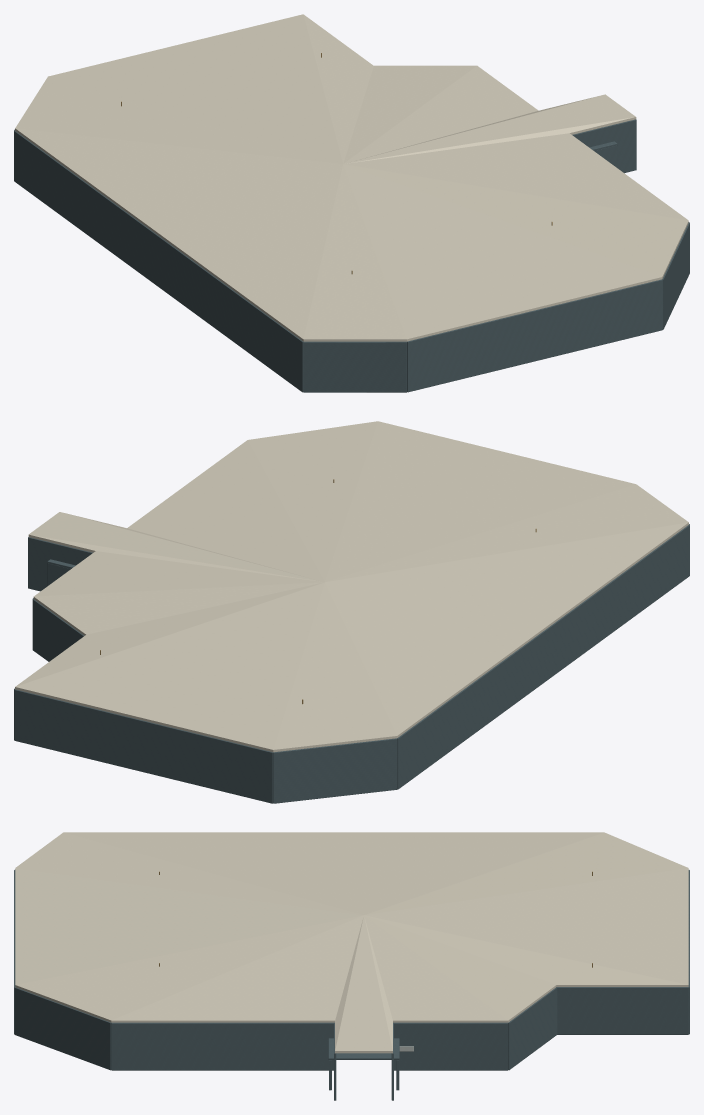
File: SOL_D05_directory_09_source001.glb
The picture shows the model from 3 angles, top to bottom: view 1: azimuth 30°, elevation 25°; view 2: azimuth 150°, elevation 25°; view 3: azimuth 270°, elevation 25°; orthographic projection. The views are drawn at different scales.
Parts seen in each view (by area): view 1: Pod0_Folded_roof_6, Pod0_Folded_roof_8, Pod0_Folded_roof_4, Enclosure_0_6, Enclosure_0_8, Pod0_Folded_roof_10, Pod0_Folded_roof_9, Pod0_Folded_roof_7, Pod0_Folded_roof_5, Pod0_Folded_roof_1, Enclosure_0_7, Pod0_Folded_roof_2 (+5 smaller); view 2: Pod0_Folded_roof_6, Pod0_Folded_roof_4, Pod0_Folded_roof_8, Enclosure_0_6, Enclosure_0_4, Pod0_Folded_roof_10, Pod0_Folded_roof_5, Pod0_Folded_roof_9, Pod0_Folded_roof_7, Enclosure_0_5, Pod0_Folded_roof_1, Pod0_Folded_roof_2 (+5 smaller); view 3: Pod0_Folded_roof_6, Pod0_Folded_roof_8, Pod0_Folded_roof_4, Pod0_Folded_roof_10, Enclosure_0_10, Pod0_Folded_roof_9, Pod0_Folded_roof_5, Pod0_Folded_roof_7, Pod0_Folded_roof_1, Enclosure_0_3, Enclosure_0_1, Pod0_Folded_roof_2 (+7 smaller).
Boxes of the visible parts, x1=… form: Pod0_Folded_roof_6: x1=15, y1=128, x2=342, y2=341; Pod0_Folded_roof_8: x1=343, y1=164, x2=662, y2=341; Pod0_Folded_roof_4: x1=48, y1=14, x2=342, y2=163; Enclosure_0_6: x1=14, y1=131, x2=303, y2=392; Enclosure_0_8: x1=407, y1=279, x2=662, y2=392; Pod0_Folded_roof_10: x1=343, y1=133, x2=687, y2=220; Pod0_Folded_roof_9: x1=344, y1=164, x2=688, y2=278; Pod0_Folded_roof_7: x1=303, y1=164, x2=406, y2=341; Pod0_Folded_roof_5: x1=15, y1=76, x2=341, y2=163; Pod0_Folded_roof_1: x1=344, y1=65, x2=538, y2=163; Enclosure_0_7: x1=303, y1=341, x2=406, y2=392; Pod0_Folded_roof_2: x1=343, y1=65, x2=476, y2=163; Pod0_Folded_roof_6: x1=325, y1=522, x2=688, y2=737; Pod0_Folded_roof_4: x1=15, y1=582, x2=324, y2=751; Pod0_Folded_roof_8: x1=325, y1=421, x2=635, y2=581; Enclosure_0_6: x1=397, y1=525, x2=689, y2=789; Enclosure_0_4: x1=14, y1=689, x2=273, y2=803; Pod0_Folded_roof_10: x1=127, y1=440, x2=324, y2=581; Pod0_Folded_roof_5: x1=273, y1=582, x2=397, y2=752; Pod0_Folded_roof_9: x1=248, y1=421, x2=377, y2=581; Pod0_Folded_roof_7: x1=326, y1=484, x2=688, y2=581; Enclosure_0_5: x1=273, y1=738, x2=397, y2=803; Pod0_Folded_roof_1: x1=34, y1=551, x2=323, y2=596; Pod0_Folded_roof_2: x1=33, y1=582, x2=323, y2=635; Pod0_Folded_roof_6: x1=63, y1=832, x2=603, y2=914; Pod0_Folded_roof_8: x1=15, y1=868, x2=362, y2=984; Pod0_Folded_roof_4: x1=365, y1=868, x2=688, y2=984; Pod0_Folded_roof_10: x1=111, y1=915, x2=363, y2=1022; Enclosure_0_10: x1=111, y1=1022, x2=334, y2=1070; Pod0_Folded_roof_9: x1=15, y1=915, x2=362, y2=1022; Pod0_Folded_roof_5: x1=365, y1=832, x2=687, y2=914; Pod0_Folded_roof_7: x1=15, y1=832, x2=362, y2=914; Pod0_Folded_roof_1: x1=364, y1=915, x2=508, y2=1022; Enclosure_0_3: x1=556, y1=987, x2=688, y2=1034; Enclosure_0_1: x1=393, y1=1022, x2=508, y2=1070; Pod0_Folded_roof_2: x1=365, y1=915, x2=556, y2=1022.
Bounding box in the file's own units: 43.1 × 5.35 × 56.2.
Materials: 12 (12 with a texture image).
